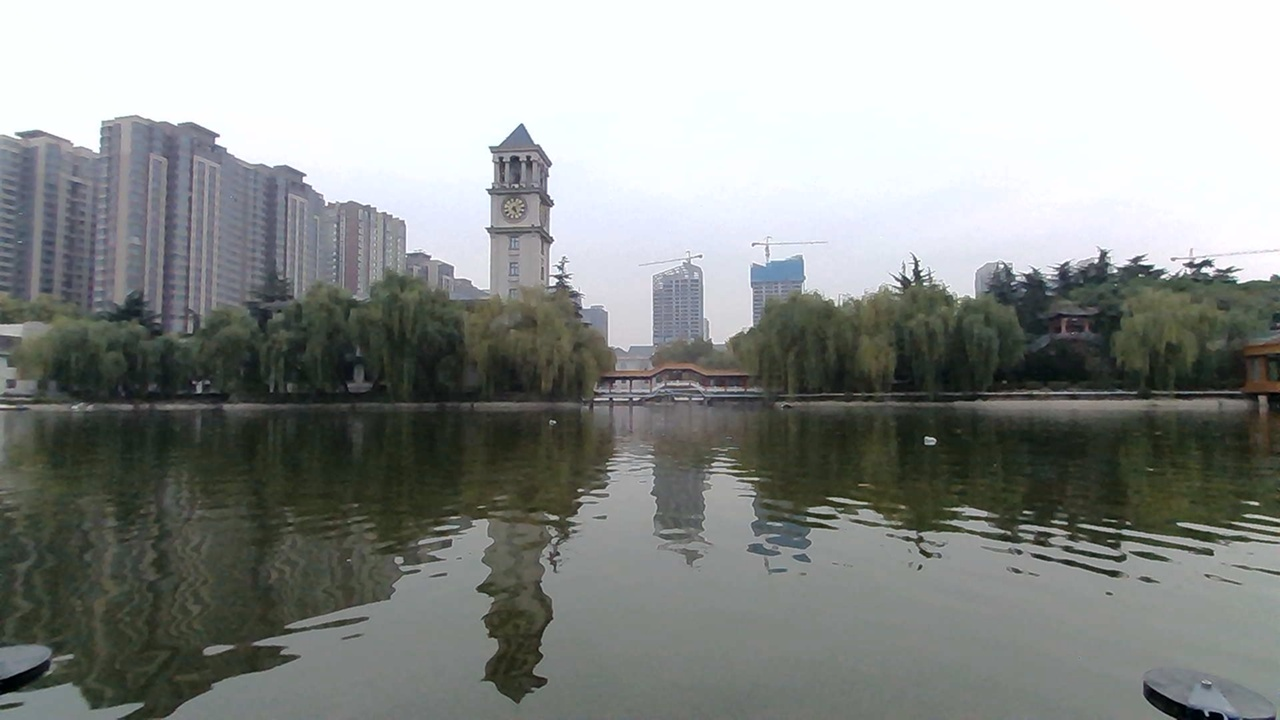bottle: (913, 431, 945, 452)
